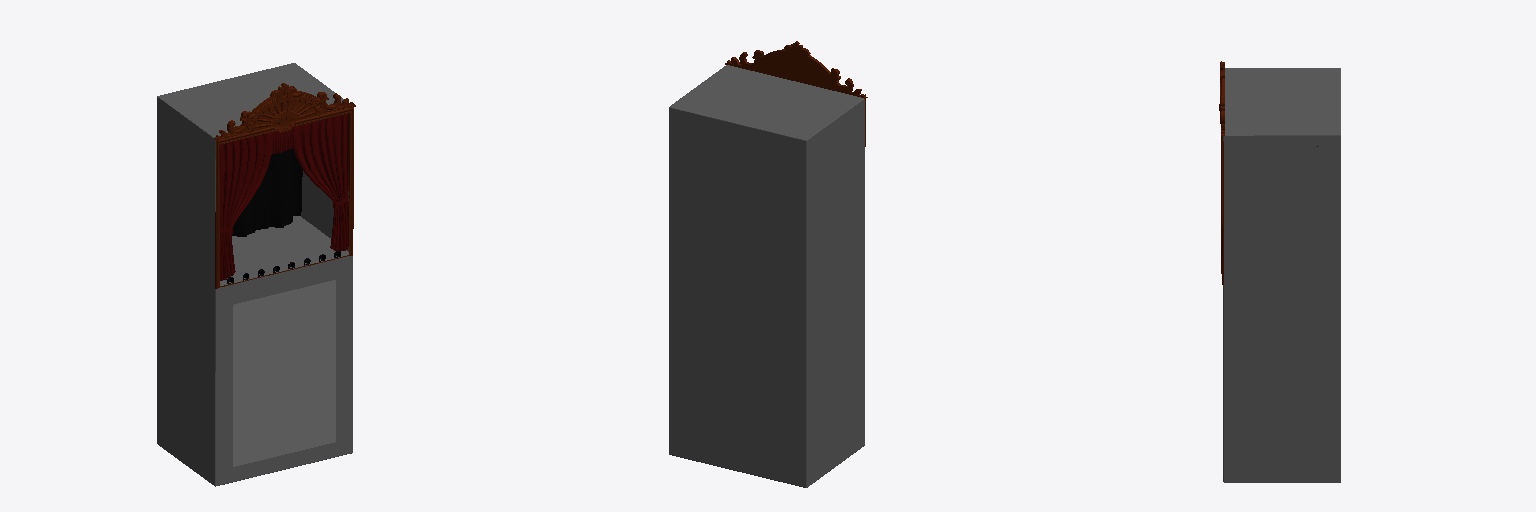
File: puppet.obj
3 views of the same model, side by side, from view 1: azimuth 30°, elevation 25°; view 2: azimuth 150°, elevation 25°; view 3: azimuth 270°, elevation 25° (orthographic).
Parts seen in each view (by area): view 1: OldPuppet8_8; view 2: OldPuppet8_8; view 3: OldPuppet8_8.
Part boxes in pixels (left/top/right/bottom): OldPuppet8_8: left=157, top=63, right=355, bottom=486; OldPuppet8_8: left=669, top=41, right=867, bottom=487; OldPuppet8_8: left=1219, top=61, right=1340, bottom=482.
Bounding box in the file's own units: 69.31 × 182 × 51.86.